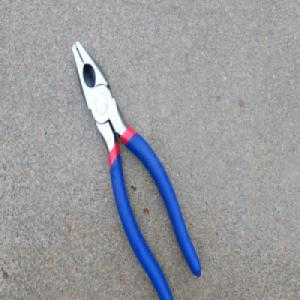Pliers: (70, 39, 201, 300)
